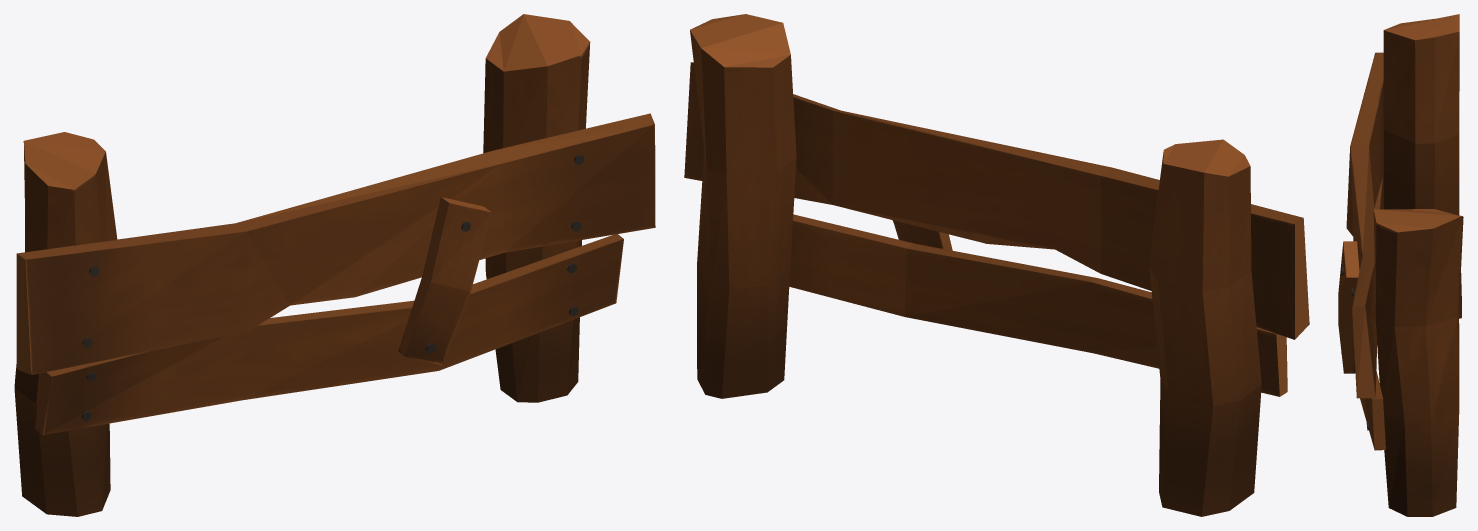
File: wooden fence_03.FBX
3 views of the same model, side by side, from view 1: azimuth 30°, elevation 25°; view 2: azimuth 150°, elevation 25°; view 3: azimuth 270°, elevation 25° (orthographic). The views are drawn at different scales.
Visible parts, largest first — view 1: Object001; view 2: Object001; view 3: Object001.
Boxes of the visible parts, x1,y1,x2,y2 form: Object001: (14, 14, 655, 516); Object001: (684, 14, 1309, 516); Object001: (1338, 14, 1463, 516).
Bounding box in the file's own units: 49.98 × 26.94 × 10.45.
1 material, 1 textured.
